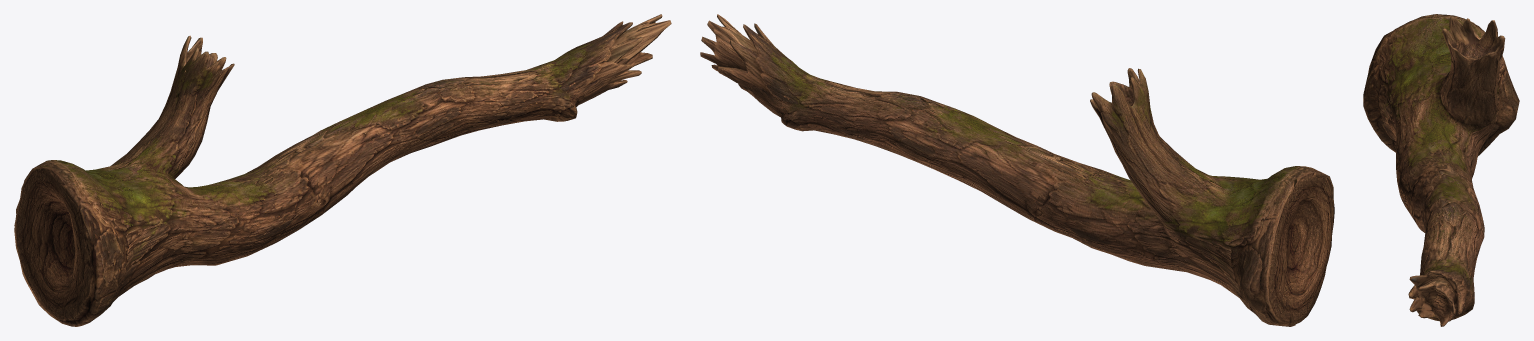
File: Meshy_AI_Mossy_Fallen_Branch_1026211759_texture.glb
3 views of the same model, side by side, from view 1: azimuth 30°, elevation 25°; view 2: azimuth 150°, elevation 25°; view 3: azimuth 270°, elevation 25° (orthographic). The views are drawn at different scales.
Size of the model in its own units: 8.49 by 3 by 1.98.
Materials: 1 (1 with a texture image).
